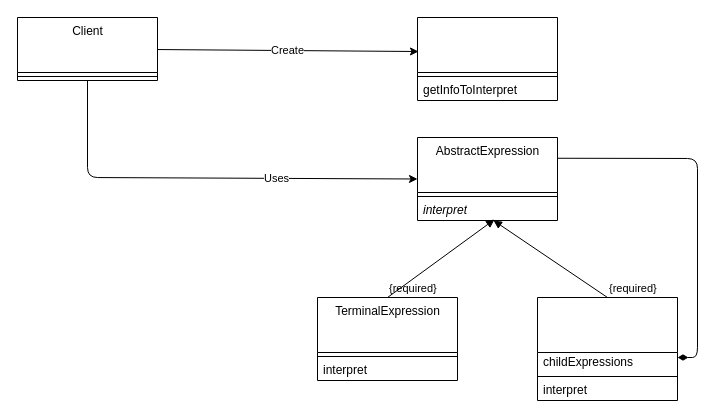
The diagram is 725 pixels wide and 418 high, and some of its shapes have lost their labels. The shapes that lost their labels are listed below. From the top down, each one's box as (x1, y1, x2, y2) in pixels, then its label:
(416, 16, 558, 100): Context
(536, 296, 678, 400): NonterminalExpression
